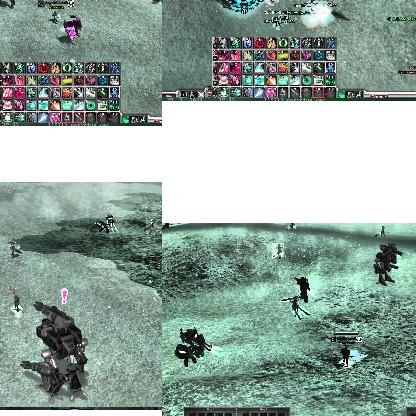caliana: (290, 295, 302, 319), (8, 240, 20, 256), (272, 243, 284, 257), (374, 225, 386, 237), (212, 0, 229, 6), (146, 220, 152, 234), (288, 222, 296, 230)
